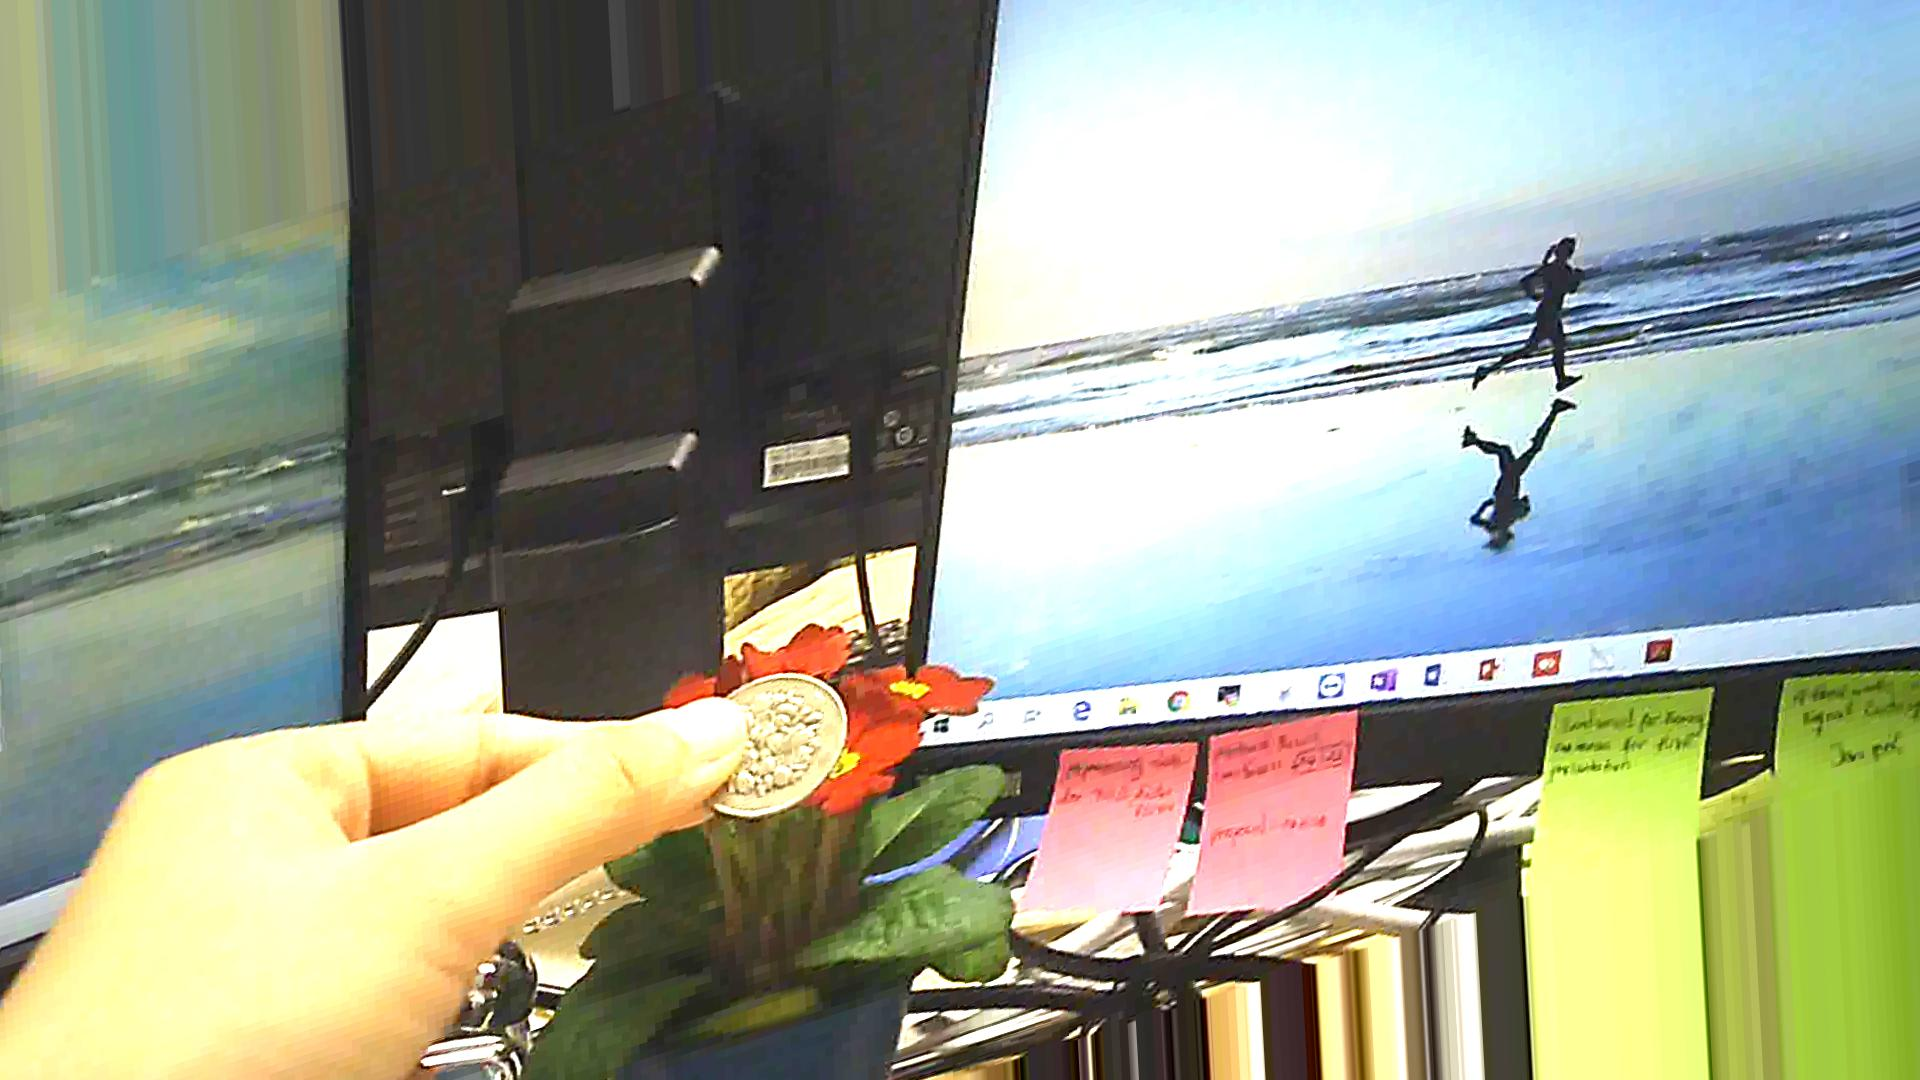100 Yen: (682, 659, 848, 811)
